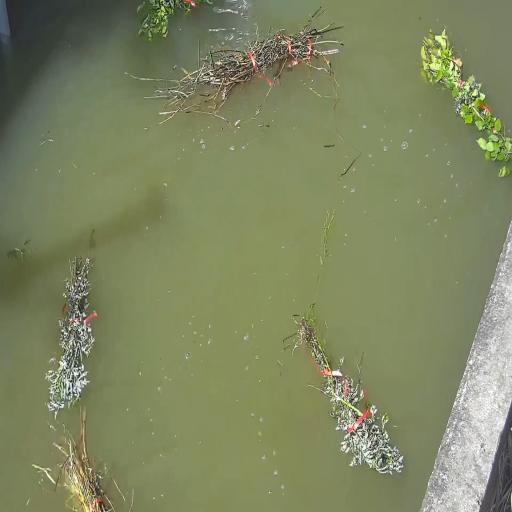twig: (147, 11, 340, 118), (283, 316, 403, 474), (421, 30, 512, 162), (45, 257, 97, 416), (55, 415, 115, 512), (138, 0, 211, 40), (317, 211, 334, 284)
